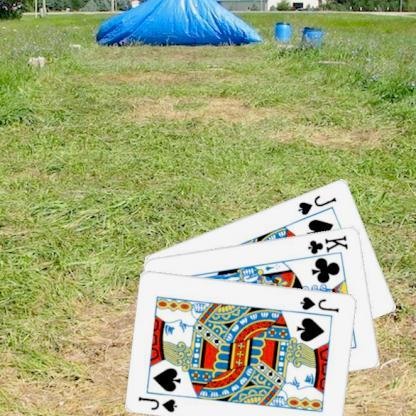JS: (295, 192, 338, 216), (297, 294, 341, 314), (136, 394, 178, 414)
KC: (302, 232, 350, 260)
